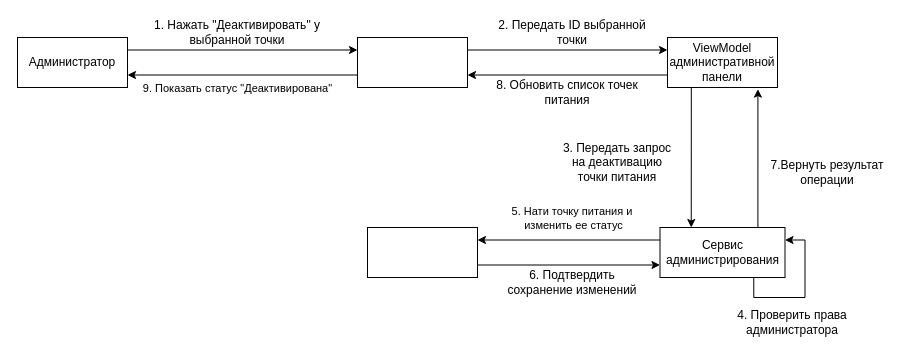
Image size: 905x354. Some labels were removed from this diagram. The shapes that lost their labels are listed below. From the top down, each one's centre as x and y in pixels, then its label:
At point 412,62: "Административая панель".
At point 422,252: "БД".
